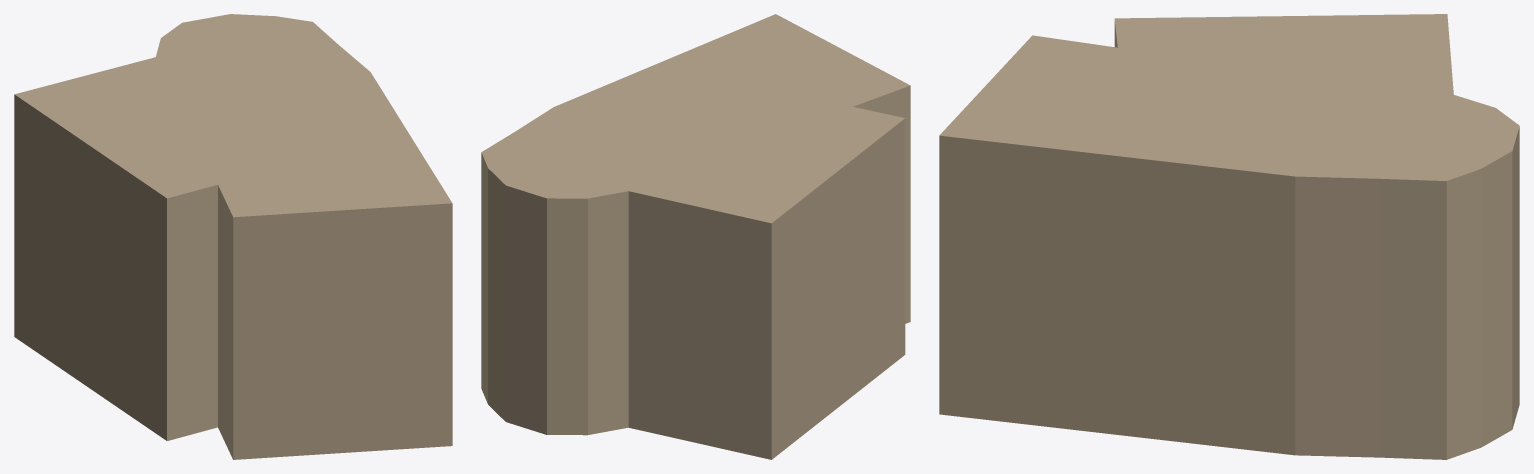
File: bld_99615889.dae
3 views of the same model, side by side, from view 1: azimuth 30°, elevation 25°; view 2: azimuth 150°, elevation 25°; view 3: azimuth 270°, elevation 25° (orthographic). The views are drawn at different scales.
Parts seen in each view (by area): view 1: bld_99615889; view 2: bld_99615889; view 3: bld_99615889.
Part boxes in pixels (box(x1,y1,x2,y2)): bld_99615889: box(14, 14, 452, 459); bld_99615889: box(481, 14, 910, 459); bld_99615889: box(939, 14, 1519, 459).
Bounding box in the file's own units: 10.28 × 15.09 × 8.
